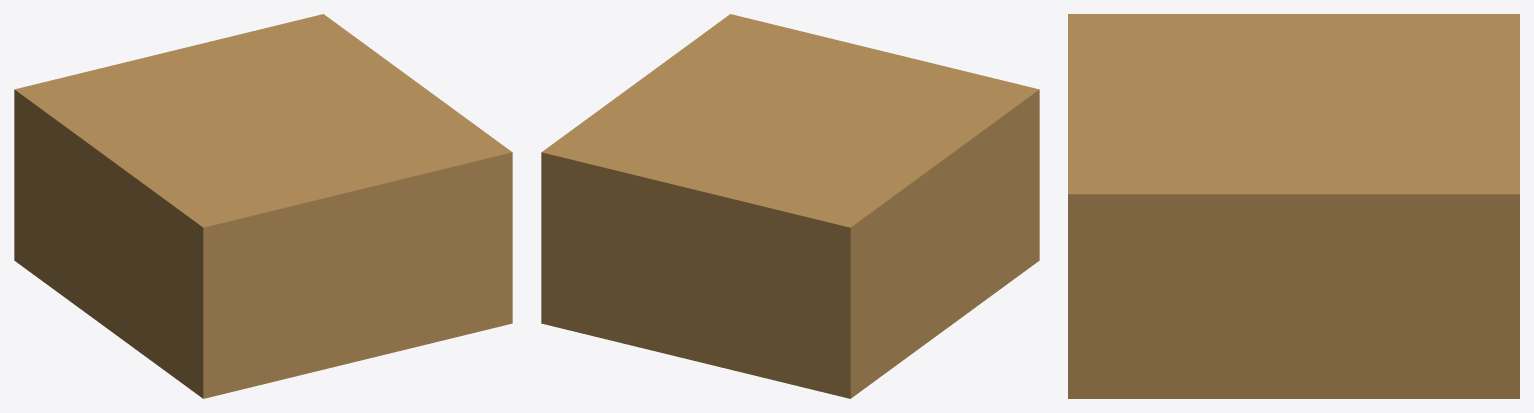
The picture shows the model from 3 angles, left to right: view 1: azimuth 30°, elevation 25°; view 2: azimuth 150°, elevation 25°; view 3: azimuth 270°, elevation 25°; orthographic projection. The views are drawn at different scales.
Parts seen in each view (by area): view 1: RUN-089-S00-top_plate; view 2: RUN-089-S00-top_plate; view 3: RUN-089-S00-top_plate.
Boxes of the visible parts, x1,y1,x2,y2 form: RUN-089-S00-top_plate: [14, 14, 512, 398]; RUN-089-S00-top_plate: [541, 14, 1039, 398]; RUN-089-S00-top_plate: [1068, 14, 1519, 398].
Bounding box in the file's own units: 0.085 × 0.045 × 0.09.
